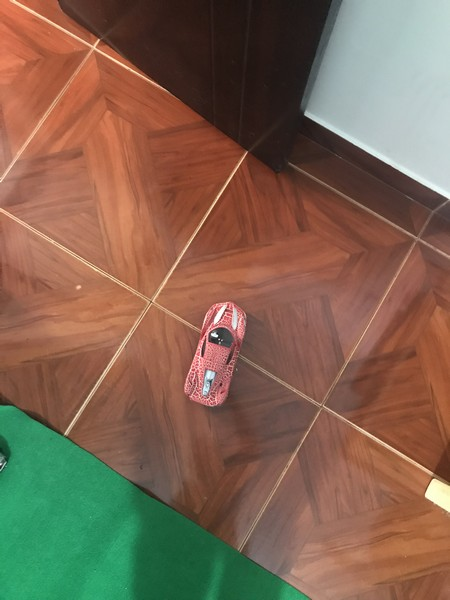RC: (179, 298, 249, 409)
